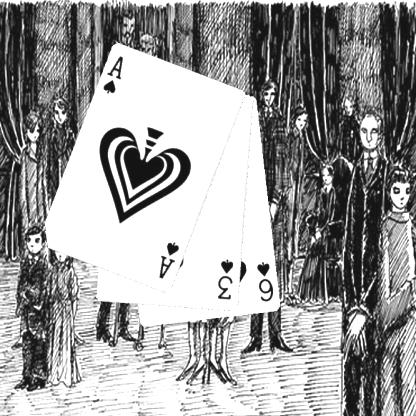3S: (215, 256, 235, 301)
6S: (254, 258, 275, 304)
AS: (100, 53, 125, 96), (156, 240, 181, 280)
